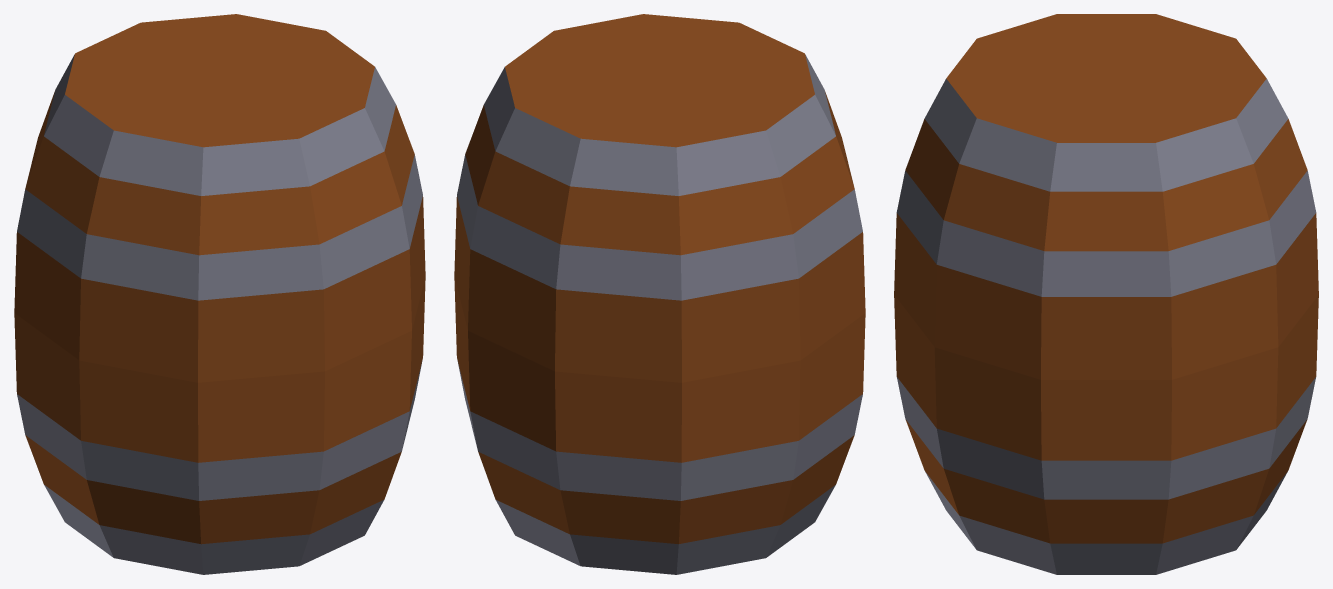
Rendered from Barrel_tex.fbx.
3 views of the same model, side by side, from view 1: azimuth 30°, elevation 25°; view 2: azimuth 150°, elevation 25°; view 3: azimuth 270°, elevation 25° (orthographic).
Parts seen in each view (by area): view 1: Barrel_tex; view 2: Barrel_tex; view 3: Barrel_tex.
Part boxes in pixels (x1,y1,x2,y2): Barrel_tex: (14, 14, 425, 574); Barrel_tex: (454, 14, 865, 574); Barrel_tex: (894, 14, 1318, 574).
Size of the model in its own units: 0.9762 by 1.15 by 1.03.
